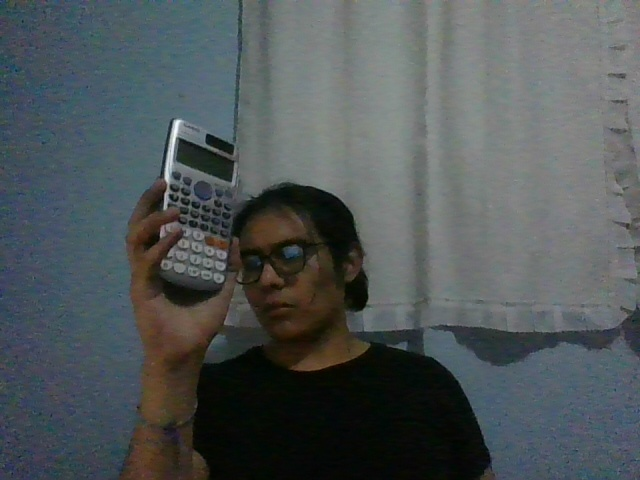calculadora: (156, 118, 239, 291)
